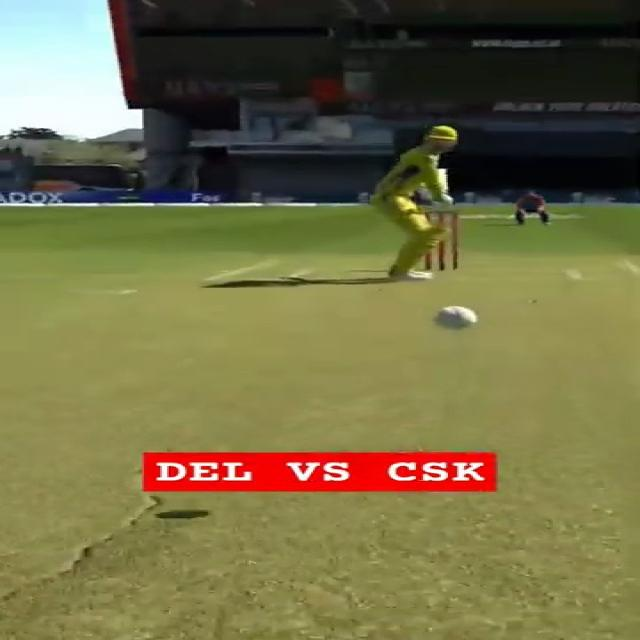ball: (425, 301, 480, 332)
